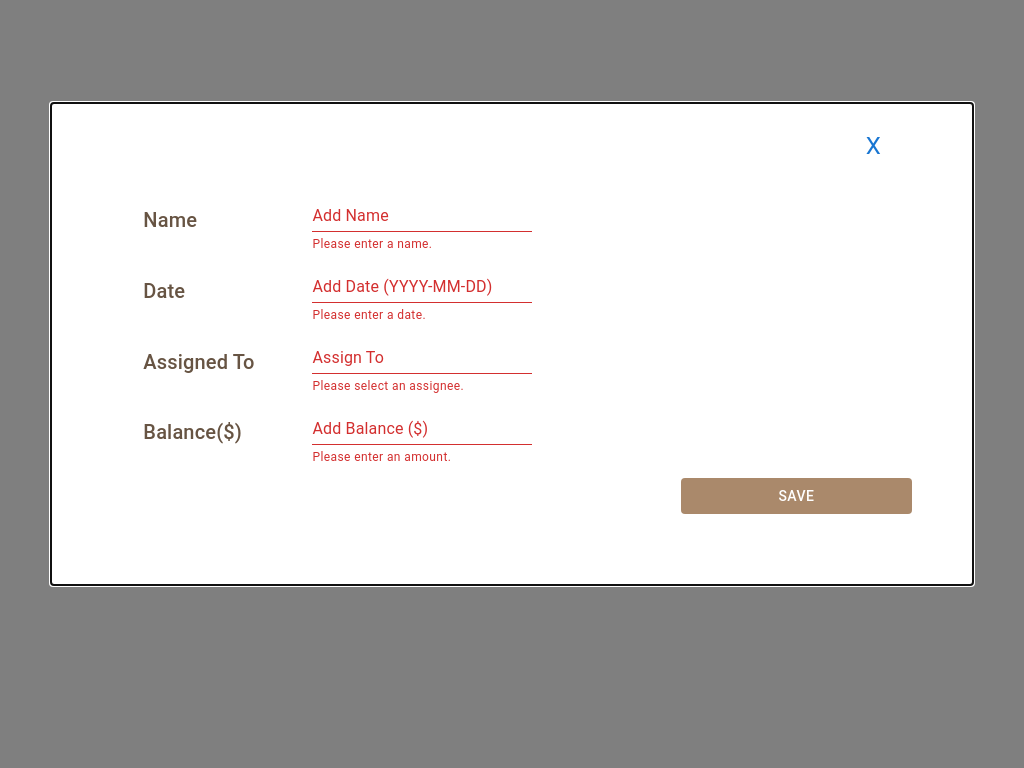
Scenario: Testing <ExpensesOverlay /> Component › should change have invalid balance error
In the field with id "expenses-overlay-balance-field": (422, 429) [312,413,532,445], type "sadfc"
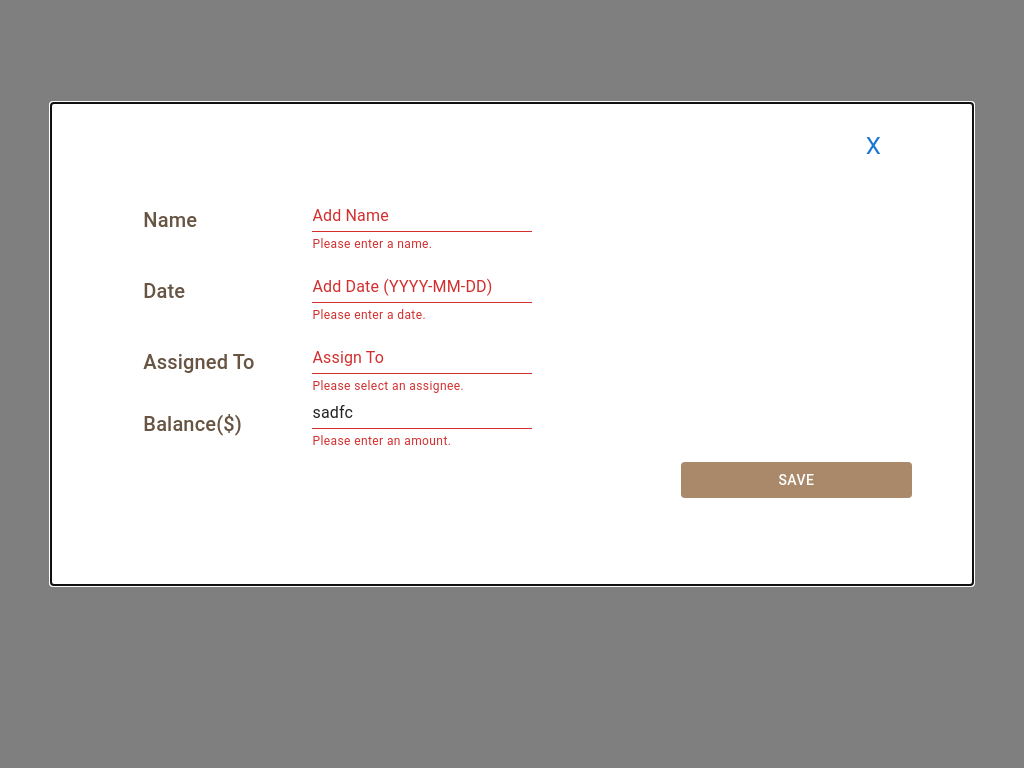
Click the button with id "expense-overlay-save-button": (796, 480) [681,462,912,498]
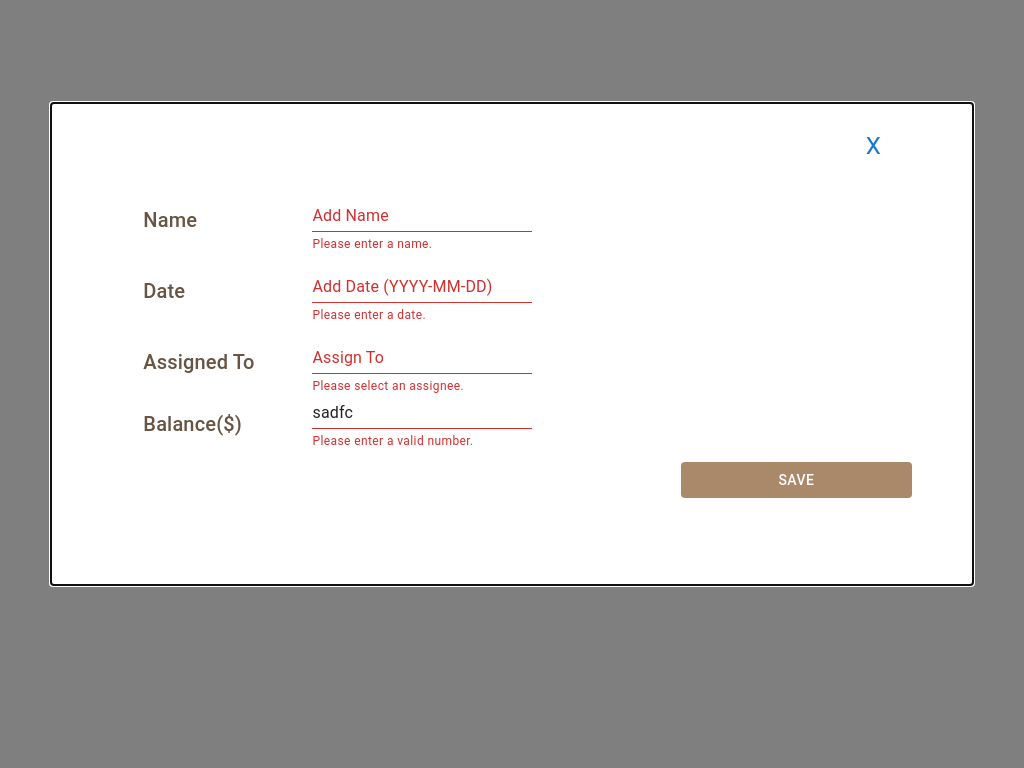
Now the text with id "expenses-overlay-balance-field-helper-text" reads "Please enter a valid number.", box [312,434,474,448]
